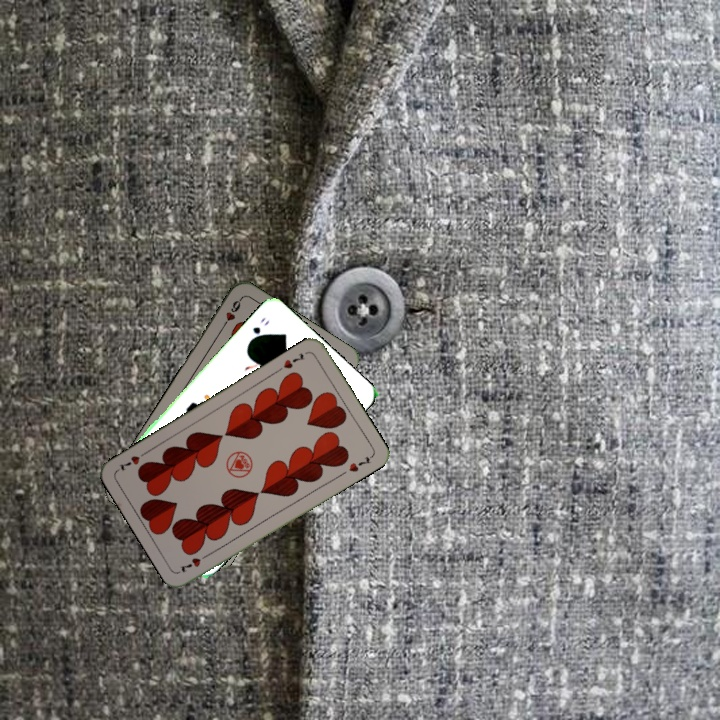GO: (245, 313, 272, 346)
H7: (176, 549, 212, 575), (279, 349, 308, 371)
H9: (218, 294, 245, 331)
